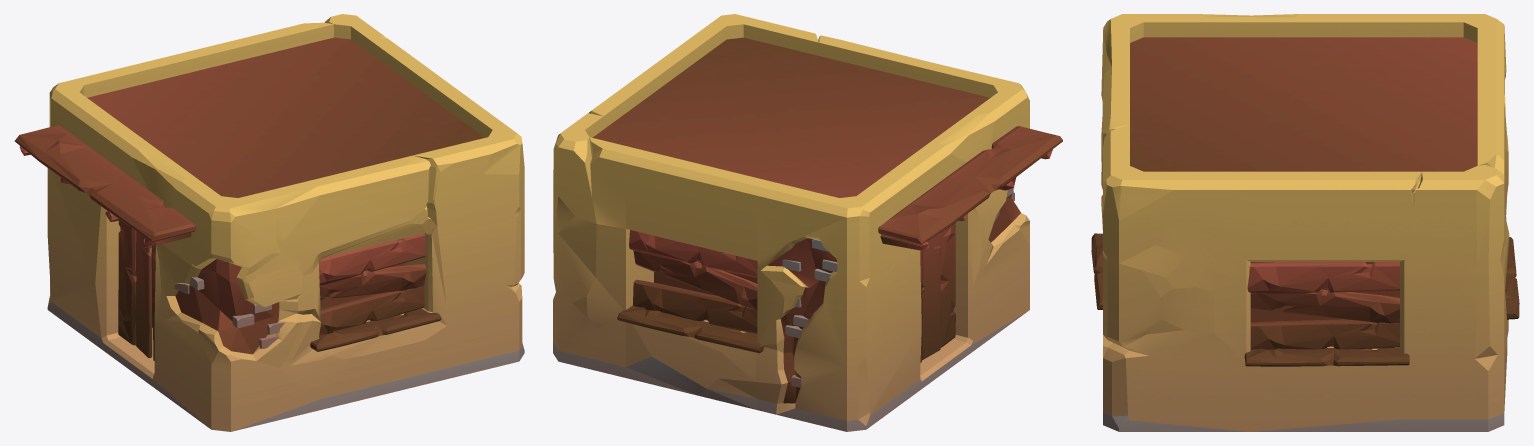
The picture shows the model from 3 angles, left to right: view 1: azimuth 30°, elevation 25°; view 2: azimuth 150°, elevation 25°; view 3: azimuth 270°, elevation 25°; orthographic projection. The views are drawn at different scales.
Parts seen in each view (by area): view 1: House1; view 2: House1; view 3: House1.
Part boxes in pixels (x1,y1,x2,y2): House1: (14, 14, 524, 431); House1: (553, 14, 1062, 431); House1: (1091, 14, 1519, 431).
Size of the model in its own units: 60 by 33.79 by 52.68.
1 material, 1 textured.
